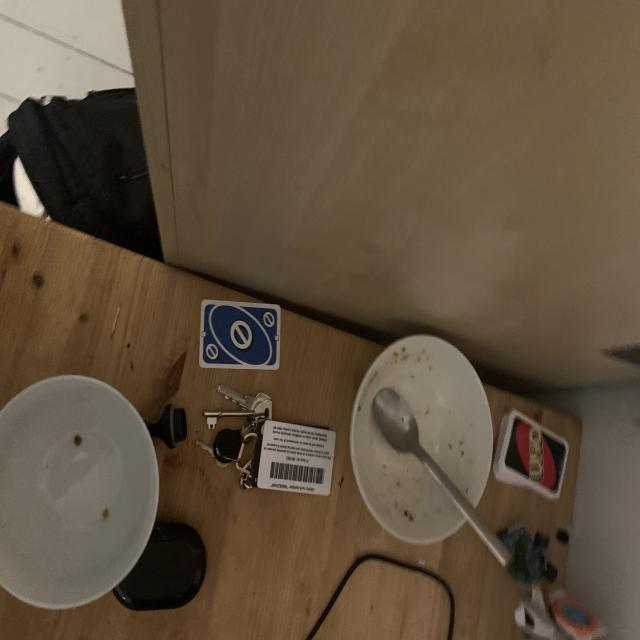lblueskip-20: (259, 310, 278, 329)
